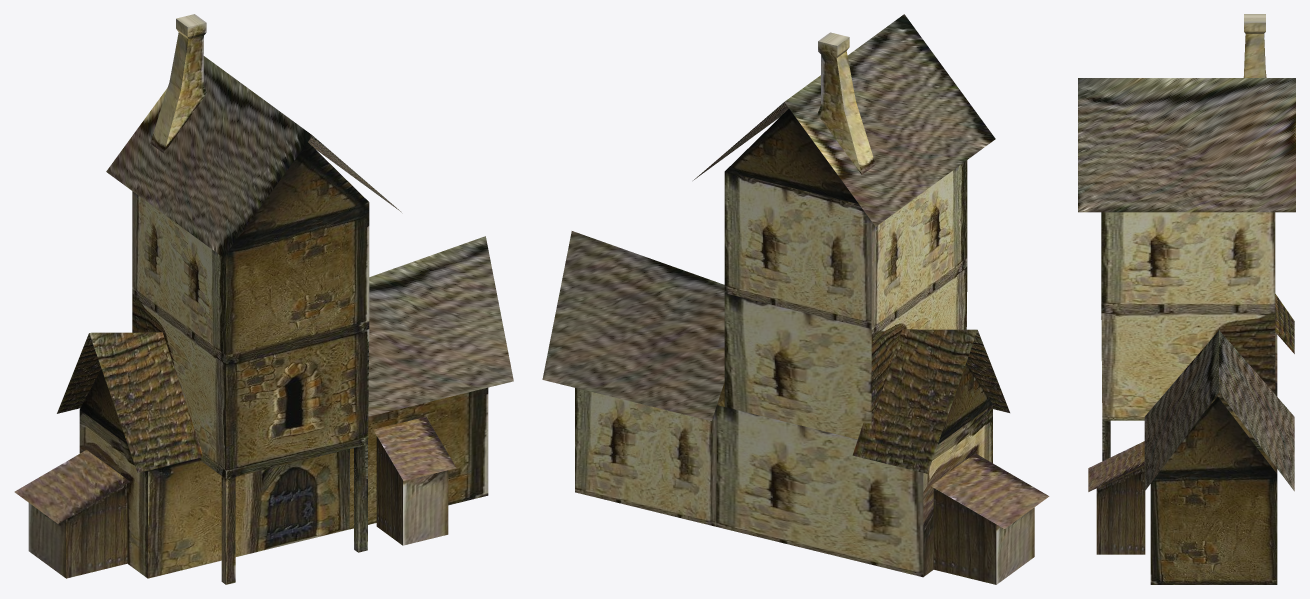
The picture shows the model from 3 angles, left to right: view 1: azimuth 30°, elevation 25°; view 2: azimuth 150°, elevation 25°; view 3: azimuth 270°, elevation 25°; orthographic projection. The views are drawn at different scales.
Parts seen in each view (by area): view 1: h11; view 2: h11; view 3: h11.
Boxes of the visible parts, x1,y1,x2,y2 form: h11: (14, 14, 513, 584); h11: (542, 14, 1049, 584); h11: (1078, 14, 1295, 584).
Size of the model in its own units: 2.63 by 2.77 by 1.19.
Materials: 1 (1 with a texture image).
